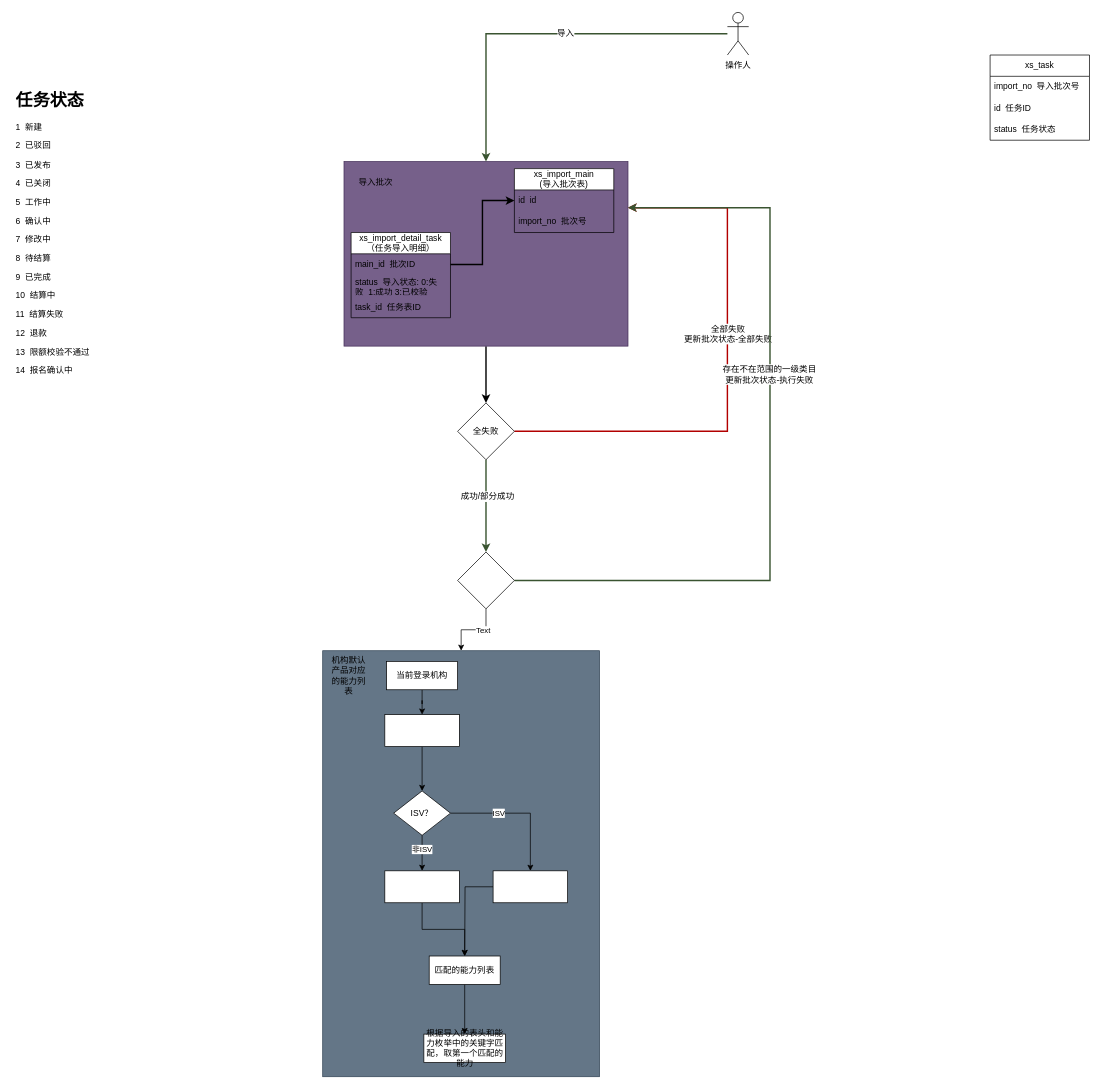
Some shapes in this 1102 by 1089 pixel diagram are drawn without their labels. Here are the shapes that lost their labels. From the top down, the centre of each, then its label:
At pixel 485 580: "一级类目是否在默认产品一级类目下".
At pixel 421 730: "默认产品下的所有基本户".
At pixel 421 886: "根据能力类型匹配，选第一个（固定一个）".
At pixel 530 886: "银行卡/支付宝".
